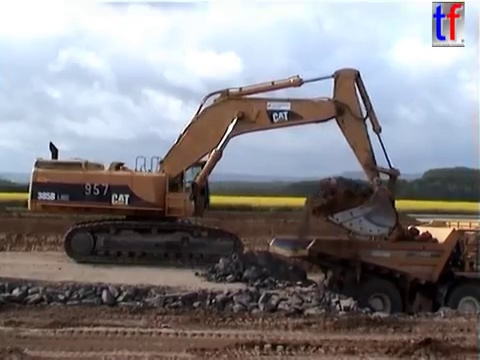excavator: (24, 65, 405, 270)
truck: (265, 214, 480, 334)
